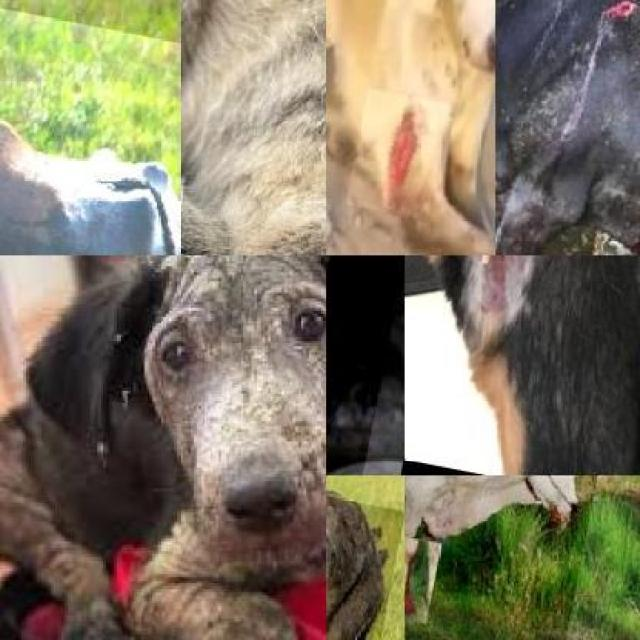buffalo: (0, 0, 180, 255)
cow: (495, 0, 639, 255), (405, 475, 612, 640)
dog: (0, 255, 326, 640), (404, 255, 640, 475), (326, 0, 495, 255)
injured: (405, 255, 557, 348), (346, 88, 448, 220), (405, 535, 440, 623), (548, 0, 597, 51), (496, 0, 536, 23)
